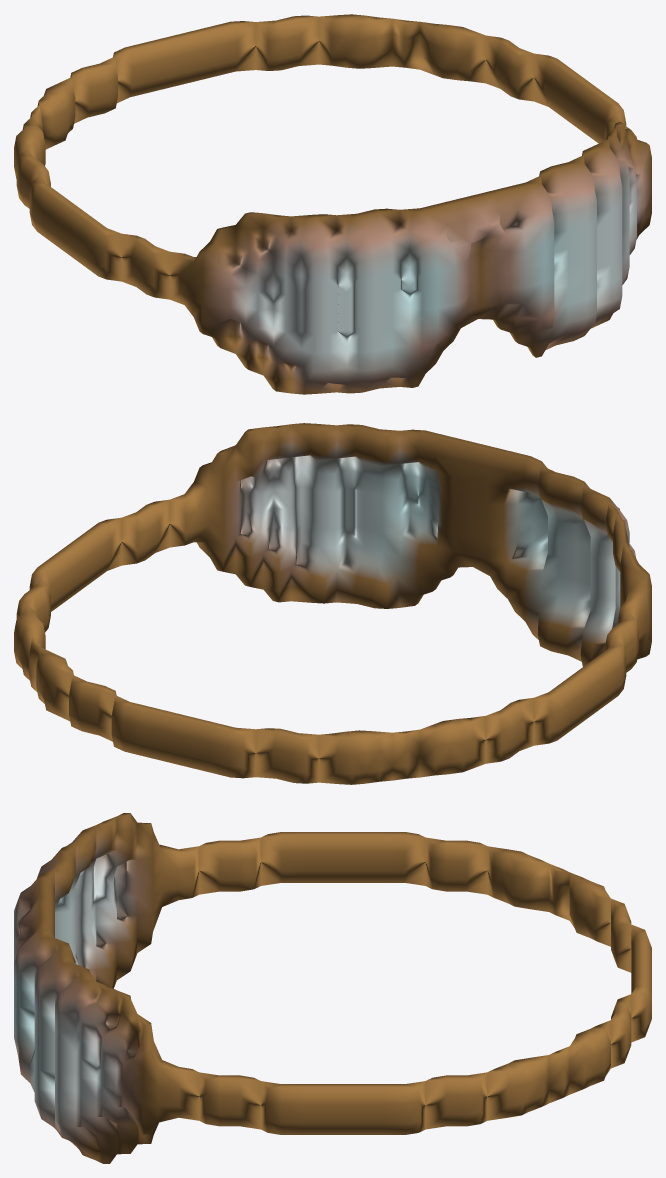
3 renders of one model, top to bottom at view 1: azimuth 30°, elevation 25°; view 2: azimuth 150°, elevation 25°; view 3: azimuth 270°, elevation 25°, orthographic.
Size of the model in its own units: 1.5 by 0.48 by 1.55.
